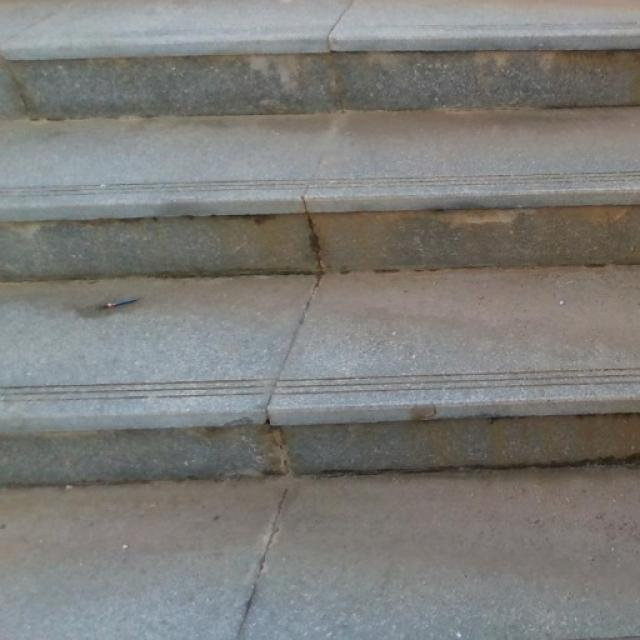Stairs: (0, 0, 639, 488)
